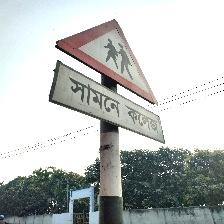College-in-front: (30, 16, 192, 155)
